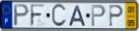A: (67, 5, 87, 27)
C: (50, 3, 68, 28)
F: (29, 4, 46, 28)
P: (13, 3, 31, 27), (90, 4, 107, 28), (109, 5, 125, 28)
